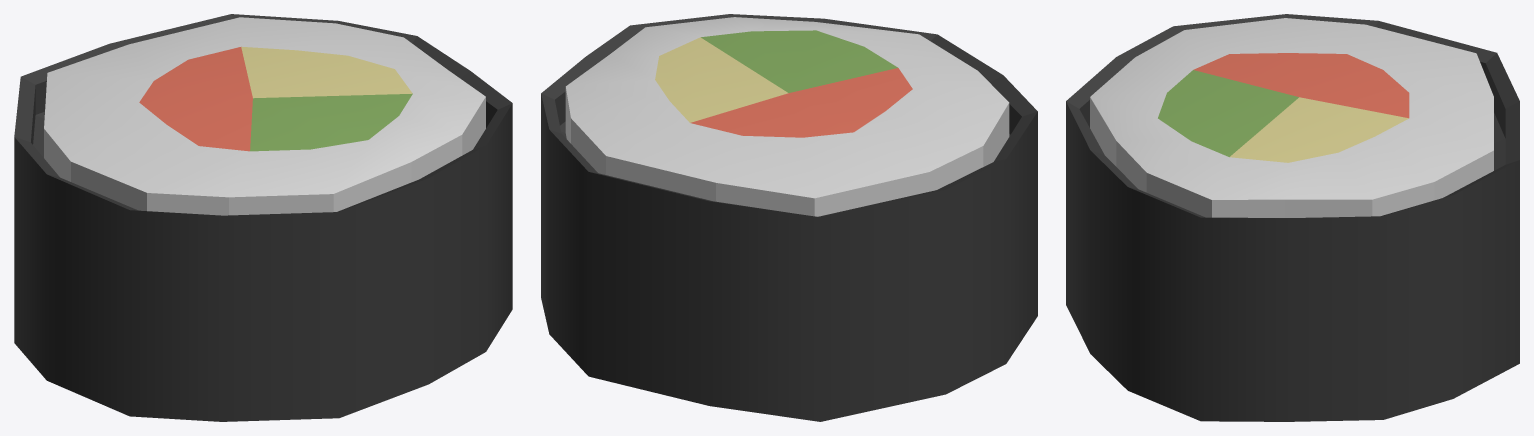
File: Sushi2.fbx
3 renders of one model, left to right at view 1: azimuth 30°, elevation 25°; view 2: azimuth 150°, elevation 25°; view 3: azimuth 270°, elevation 25°, orthographic.
Parts seen in each view (by area): view 1: sushi2; view 2: sushi2; view 3: sushi2.
Part boxes in pixels (box(x1,y1,x2,y2)): sushi2: box(14, 14, 512, 421); sushi2: box(541, 14, 1037, 421); sushi2: box(1066, 14, 1519, 421).
Bounding box in the file's own units: 7.49 × 4.02 × 7.04.
